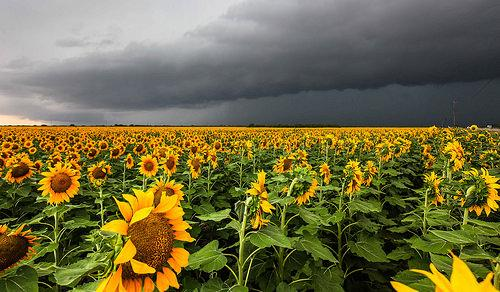sunflower: (105, 188, 193, 292), (0, 221, 39, 277), (37, 163, 82, 202), (469, 166, 500, 215), (284, 171, 317, 208), (247, 171, 268, 227), (4, 157, 32, 183), (344, 159, 363, 197), (444, 138, 466, 169), (88, 161, 110, 184), (138, 155, 159, 176), (188, 152, 201, 177), (164, 155, 178, 172)
